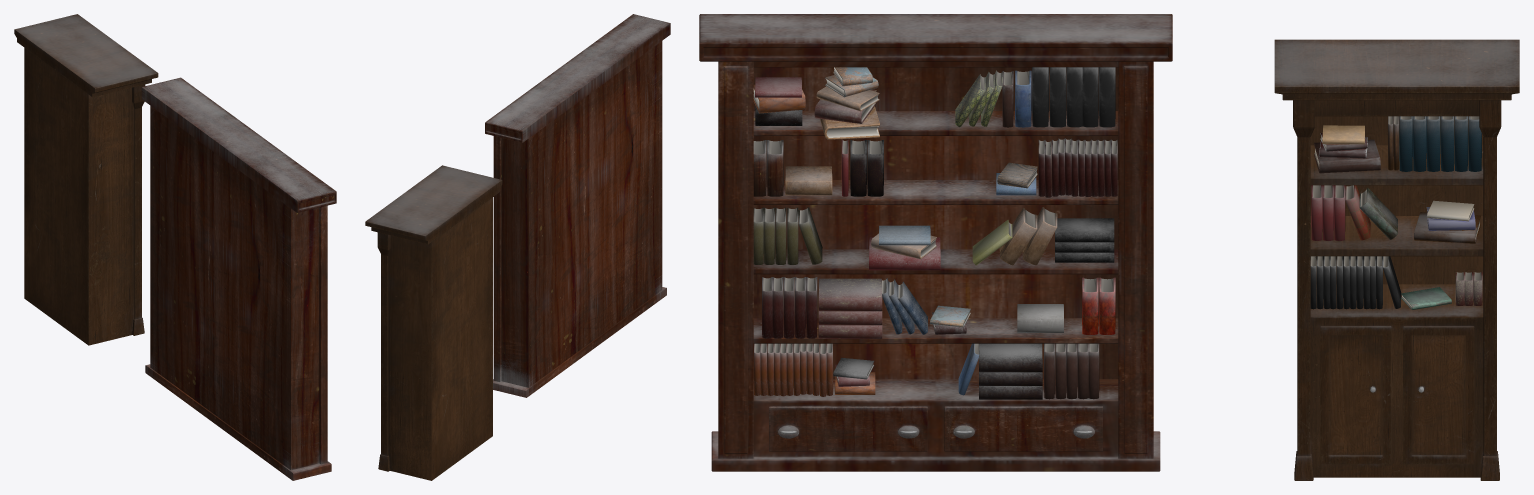
The picture shows the model from 3 angles, left to right: view 1: azimuth 30°, elevation 25°; view 2: azimuth 150°, elevation 25°; view 3: azimuth 270°, elevation 25°; orthographic projection. The views are drawn at different scales.
Visible parts, largest first — view 1: bokkshelf', Cube_Cube.001, Cube.001_Cube.002; view 2: bokkshelf', Cube_Cube.001, Cube.001_Cube.002; view 3: bokkshelf', books, Cube_Cube.001, Cube.004_Cube.005, Cube.001_Cube.002, Cube.003_Cube.004, book.017_Cube.021, book.012_Cube.016, book.031_Cube.035, book.018_Cube.022.
Boxes of the visible parts, bbox=[...] form: bokkshelf': bbox=[141, 77, 336, 480]; Cube_Cube.001: bbox=[14, 14, 158, 345]; Cube.001_Cube.002: bbox=[132, 84, 145, 335]; bokkshelf': bbox=[485, 14, 670, 397]; Cube_Cube.001: bbox=[365, 165, 502, 480]; Cube.001_Cube.002: bbox=[377, 232, 390, 471]; bokkshelf': bbox=[699, 14, 1172, 471]; books: bbox=[753, 67, 1117, 399]; Cube_Cube.001: bbox=[1274, 39, 1519, 477]; Cube.004_Cube.005: bbox=[1320, 326, 1474, 464]; Cube.001_Cube.002: bbox=[1293, 100, 1501, 480]; Cube.003_Cube.004: bbox=[1310, 145, 1483, 256]; book.017_Cube.021: bbox=[1314, 139, 1380, 173]; book.012_Cube.016: bbox=[1414, 212, 1480, 243]; book.031_Cube.035: bbox=[1359, 187, 1397, 239]; book.018_Cube.022: bbox=[1322, 125, 1364, 144].
Size of the model in its own units: 0.7038 by 3.04 by 5.2.
Materials: 4 (4 with a texture image).
